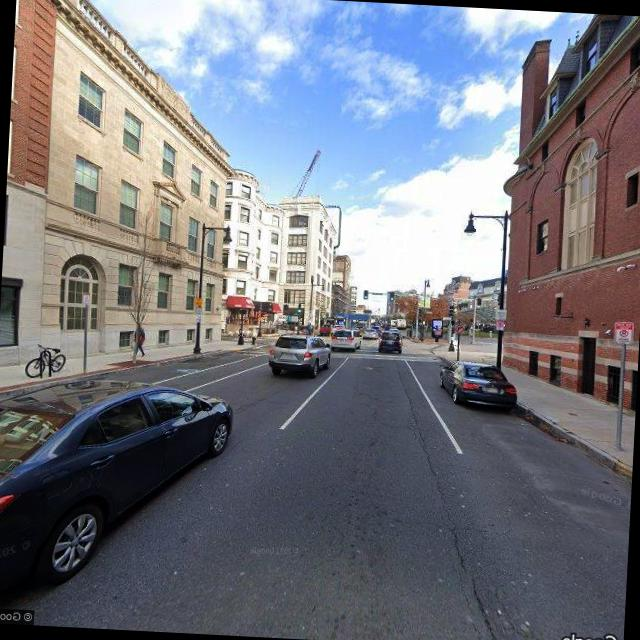pothole: (381, 357, 518, 640)
